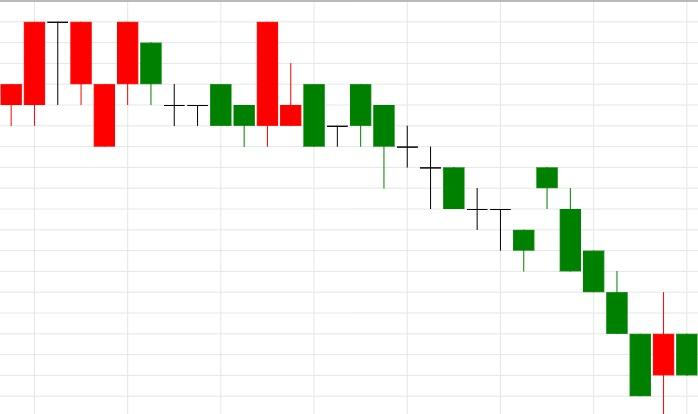bullish_engulfing_rise: (116, 21, 279, 147)
